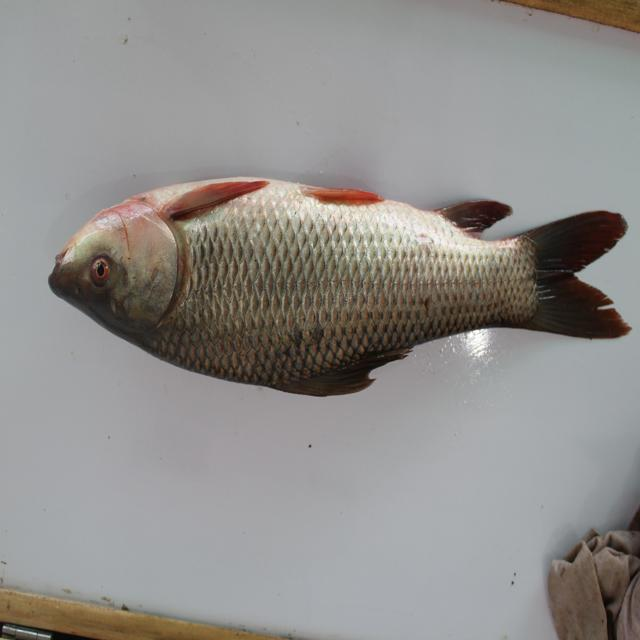Rohu: (45, 176, 617, 410)
